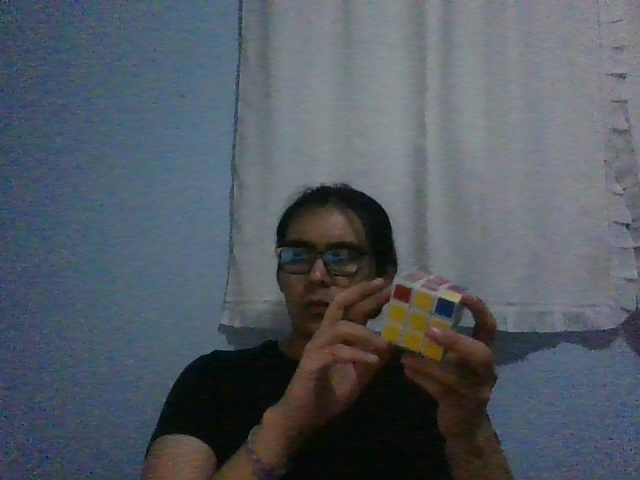rubik: (381, 266, 471, 363)
